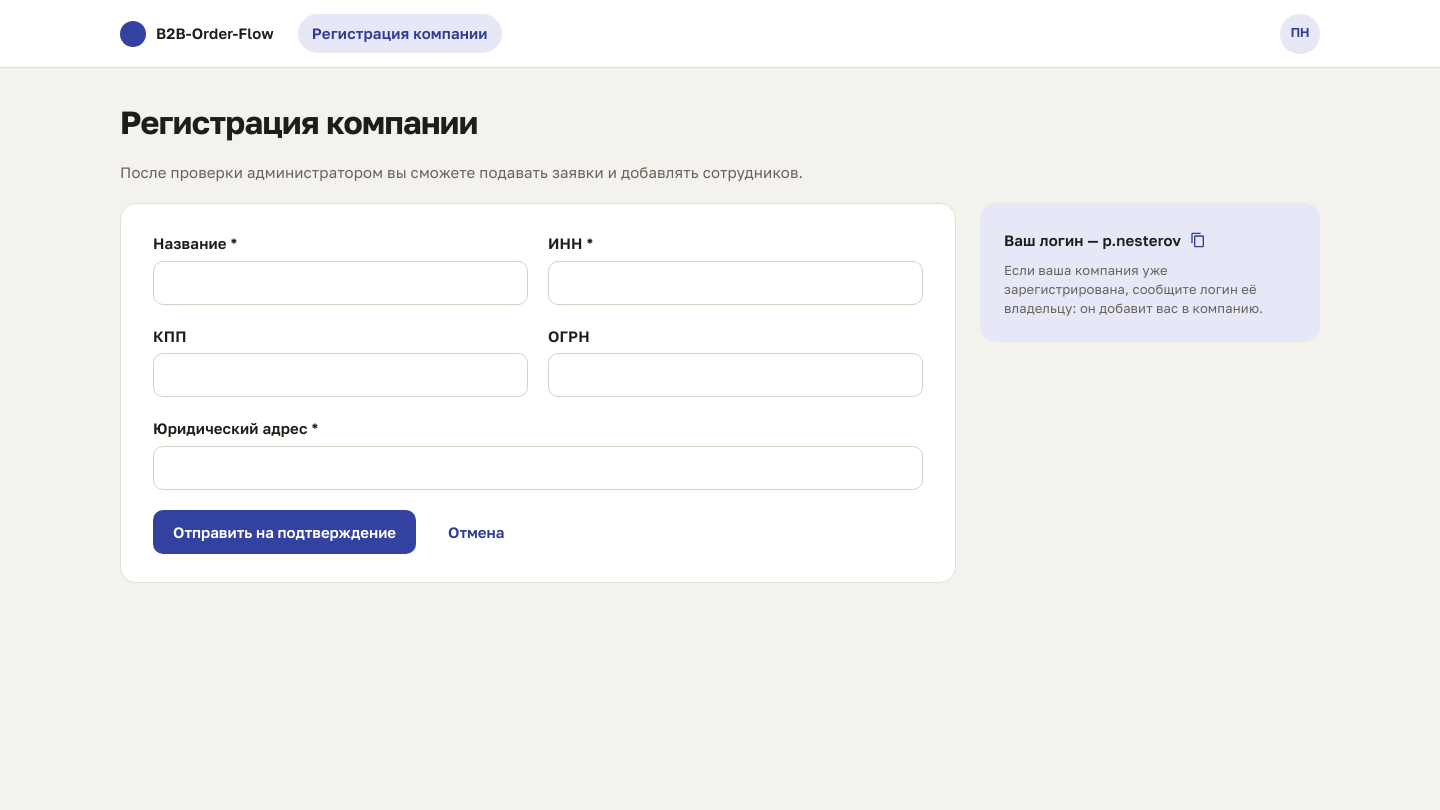
UI-03. Регистрация компании › ИНН не из справочника: плашка и ошибка под полем ИНН, компания не создана
Type "ООО «Фантом»" into the field with test id "company-new-name" at (340, 283), box [170, 262, 511, 304]
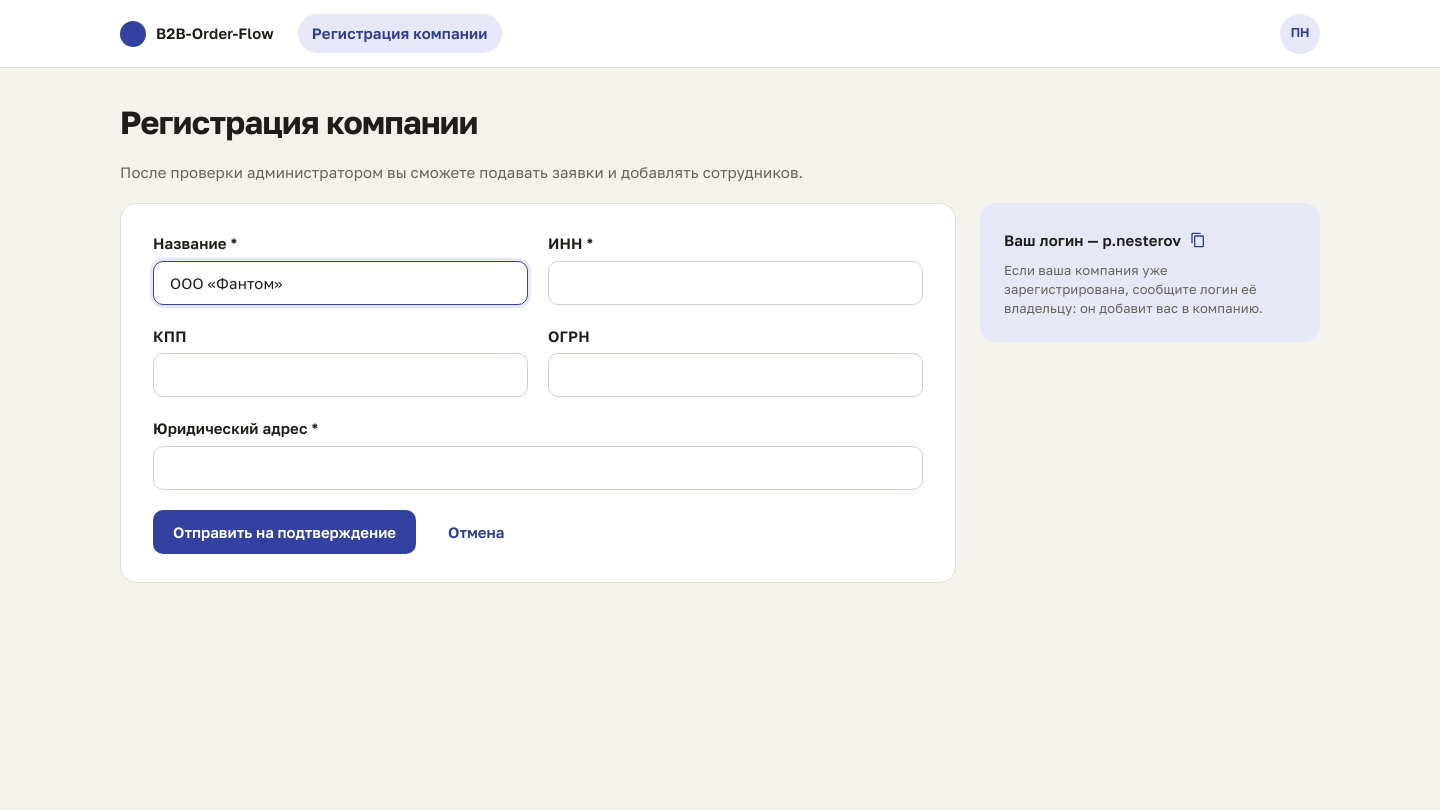
Type "9977004455" into the field with test id "company-new-inn" at (736, 283), box [565, 262, 906, 304]
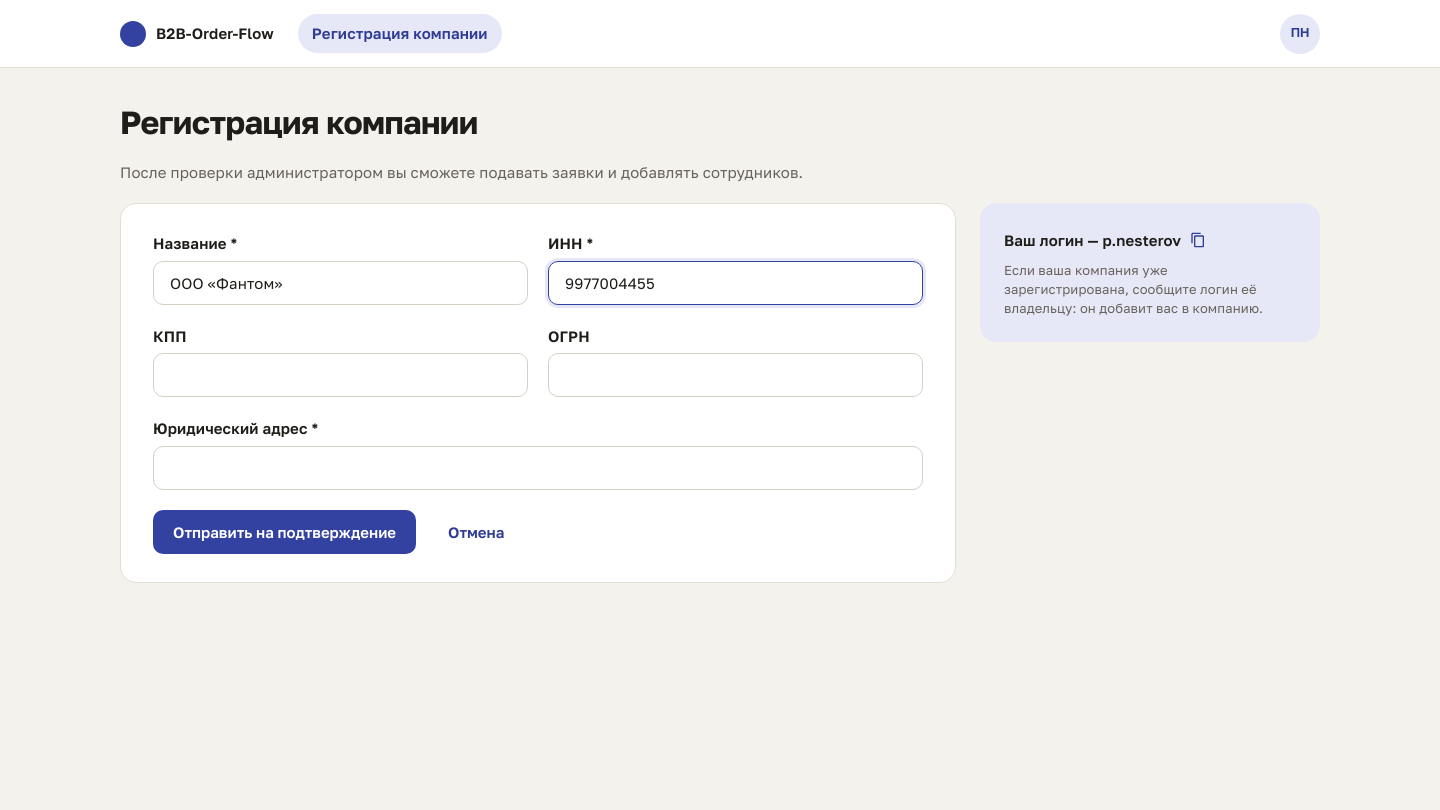
Type "г. Москва, ул. Примерная, д. 1" into the field with test id "company-new-legal-address" at (538, 468), box [170, 447, 906, 489]
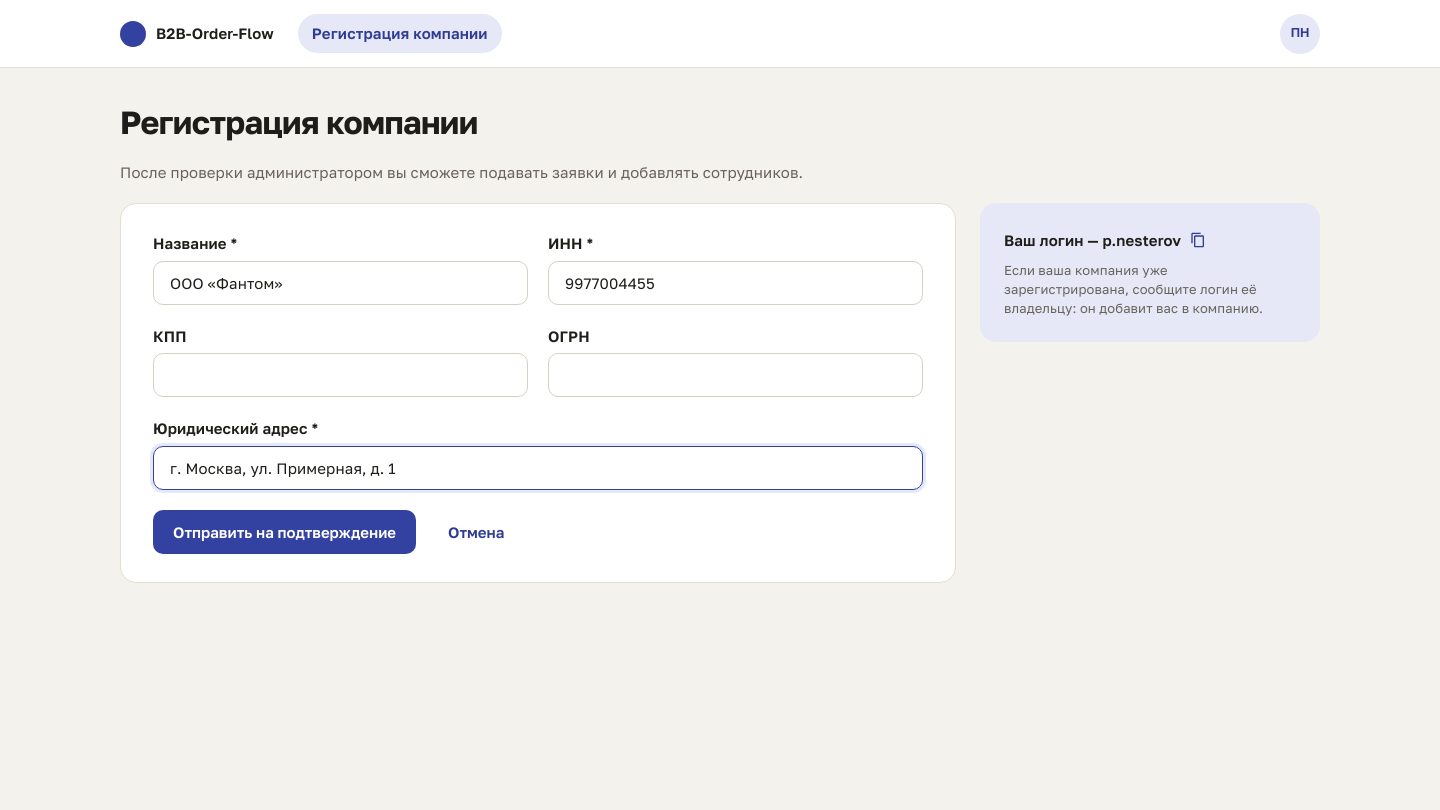
Click the button with test id "company-new-submit" at (284, 532), box [153, 510, 416, 554]
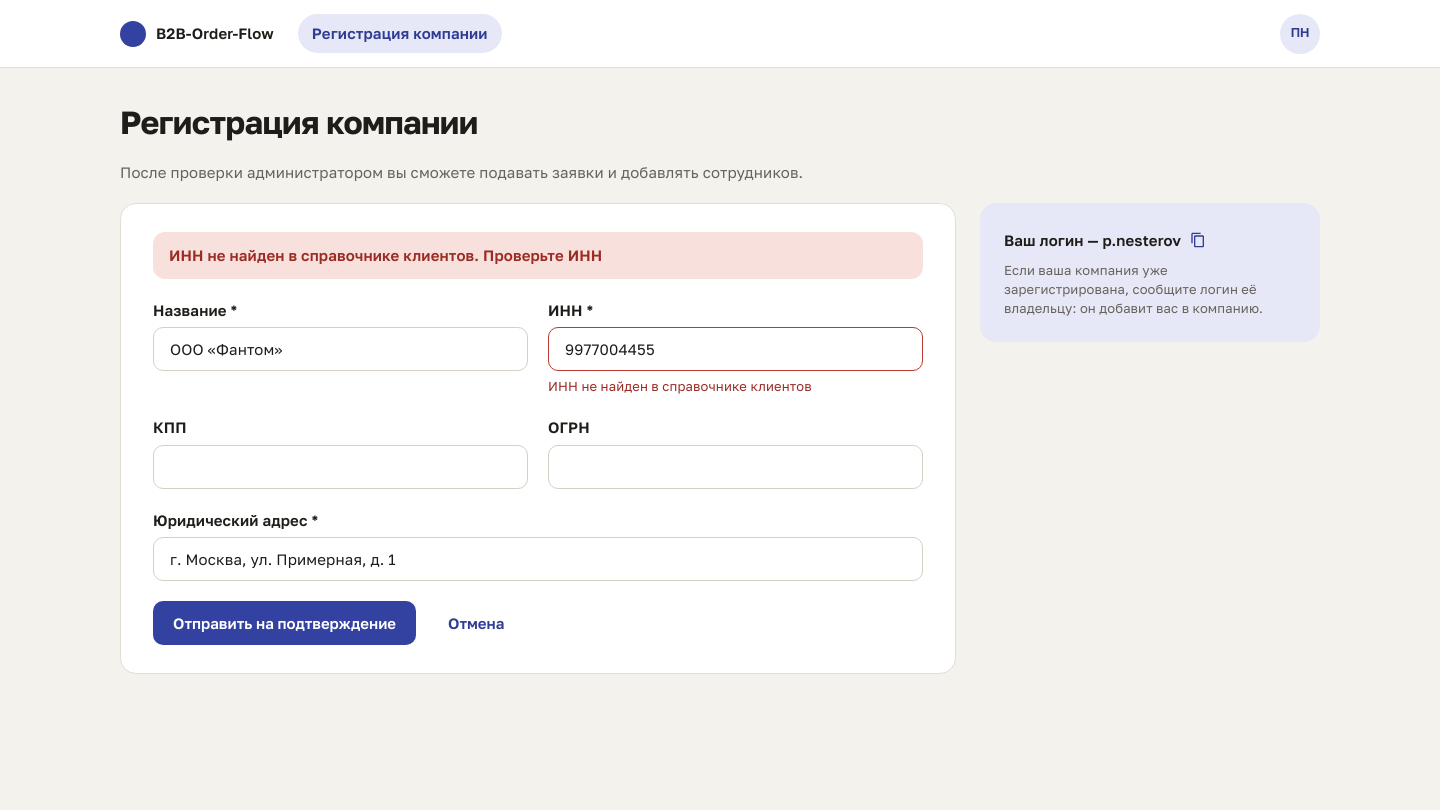
Now the message with test id "company-new-error" reads "ИНН не найден в справочнике клиентов. Проверьте ИНН", box [169, 246, 602, 264]
Now the text "ИНН не найден в справочнике клиентов" is shown, box [548, 378, 812, 394]
